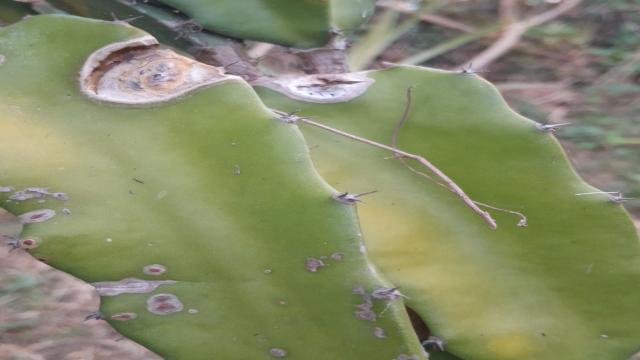stemcanker: (1, 16, 640, 360)
